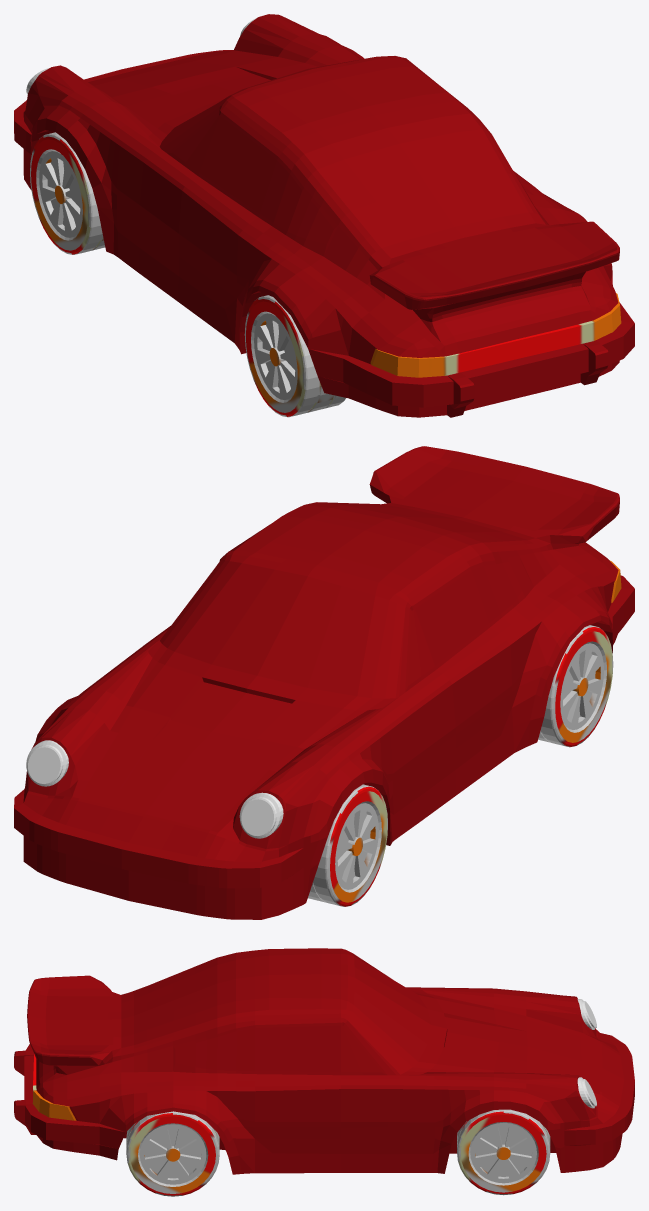
File: Red-Porsche911.fbx
3 renders of one model, top to bottom at view 1: azimuth 30°, elevation 25°; view 2: azimuth 150°, elevation 25°; view 3: azimuth 270°, elevation 25°, orthographic. The views are drawn at different scales.
Visible parts, largest first — view 1: Body, BackLeft Wheel, FrontLeft Wheel, TailLight; view 2: Body, FrontLeft Wheel, BackLeft Wheel, Left Headight, Right Headlight; view 3: Body, FrontRight Wheel, BackRight Wheel, TailLight, Right Headlight.
Boxes of the visible parts, x1,y1,x2,y2 form: Body: (14, 14, 634, 417); BackLeft Wheel: (244, 295, 345, 417); FrontLeft Wheel: (30, 132, 105, 254); TailLight: (370, 293, 621, 377); Body: (14, 446, 634, 919); FrontLeft Wheel: (308, 784, 387, 906); BackLeft Wheel: (538, 625, 613, 747); Left Headight: (239, 792, 283, 838); Right Headlight: (26, 740, 68, 786); Body: (14, 948, 634, 1174); FrontRight Wheel: (457, 1109, 550, 1195); BackRight Wheel: (126, 1111, 219, 1196); TailLight: (32, 1054, 76, 1120); Right Headlight: (577, 1077, 596, 1108).
Size of the model in its own units: 192 by 441 by 131.
Materials: 3 (3 with a texture image).
